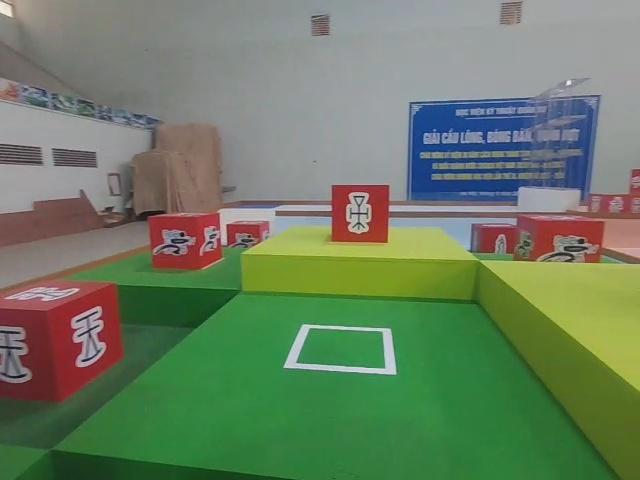R1: (511, 208, 607, 277), (145, 210, 223, 271), (224, 217, 271, 255)
R2 Real: (0, 274, 127, 405), (329, 181, 392, 245)
